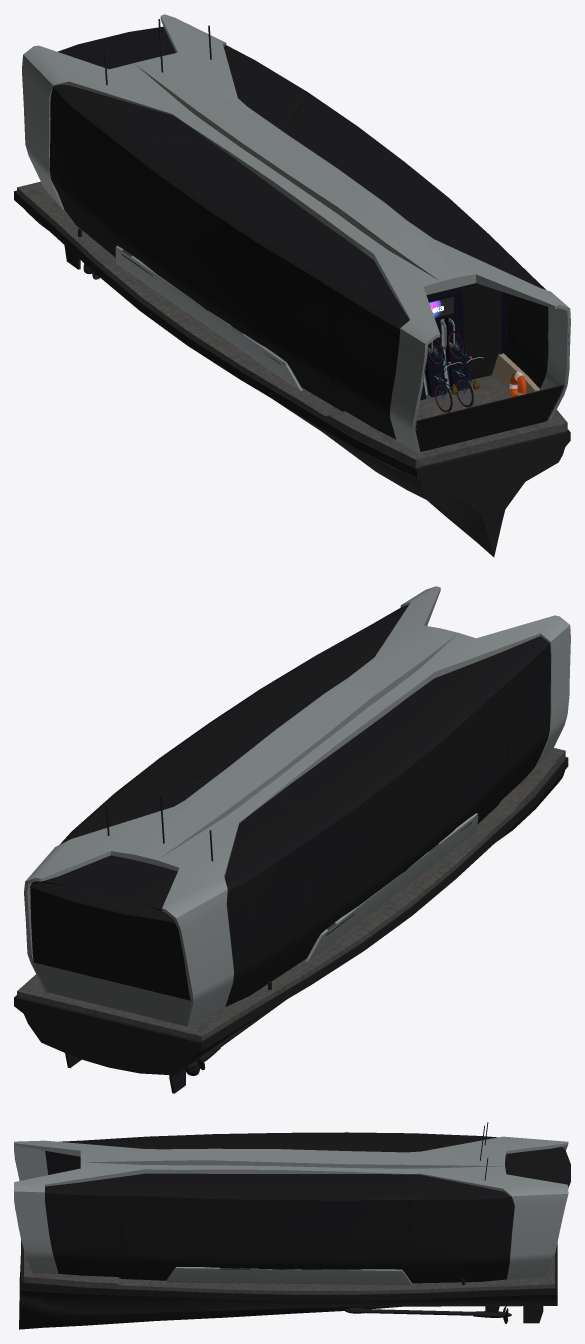
The picture shows the model from 3 angles, top to bottom: view 1: azimuth 30°, elevation 25°; view 2: azimuth 150°, elevation 25°; view 3: azimuth 270°, elevation 25°; orthographic projection. The views are drawn at different scales.
Visible parts, largest first — view 1: Boat, untitled, sinichka_v2.003; view 2: Boat; view 3: Boat.
Part boxes in pixels (left/top/right/bottom): Boat: left=14, top=14, right=570, bottom=557; untitled: left=427, top=338, right=464, bottom=412; sinichka_v2.003: left=448, top=331, right=486, bottom=407; Boat: left=14, top=586, right=570, bottom=1093; Boat: left=14, top=1122, right=570, bottom=1329.
Bounding box in the file's own units: 0.1717 × 0.2128 × 0.5267.
11 materials, 11 textured.
